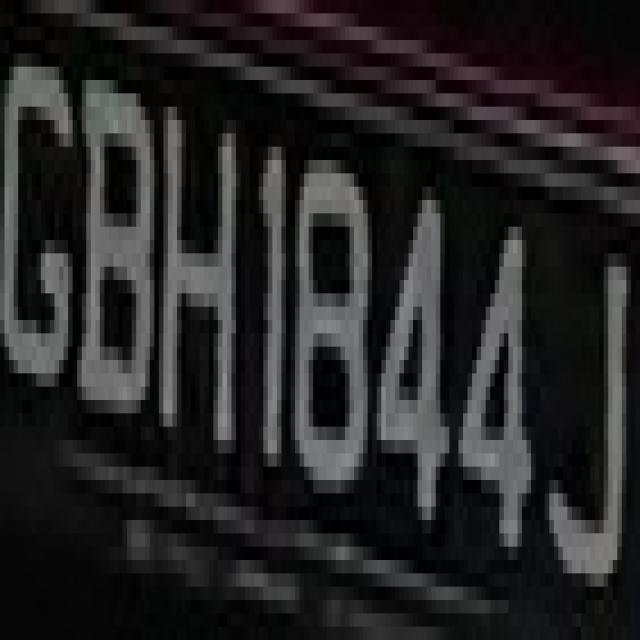1: (250, 93, 290, 520)
4: (459, 187, 540, 613), (377, 187, 458, 600)
8: (281, 107, 377, 560)
B: (77, 53, 159, 440)
G: (9, 40, 73, 440)
H: (154, 80, 250, 493)
J: (545, 200, 631, 613)
